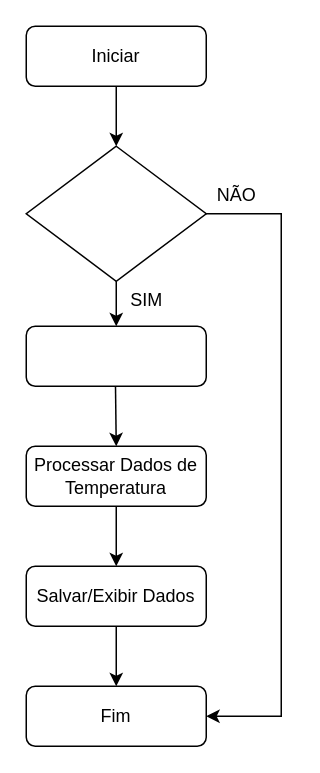
Some shapes in this 320 by 773 pixel diagram are drawn without their labels. Each missing label, with the centre of its shape:
"Dispositivos conectados?" belongs at (x=115, y=213).
"Ler temperatura" belongs at (x=115, y=355).
